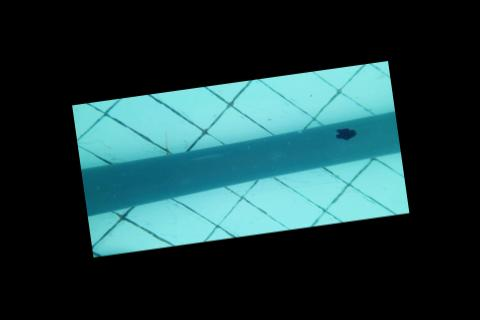kebocoran: (332, 125, 356, 142)
